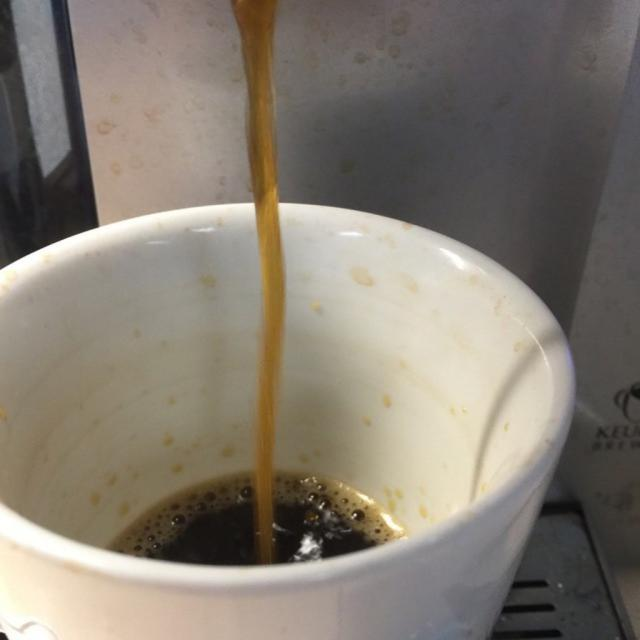Coffee: (19, 180, 600, 640)
